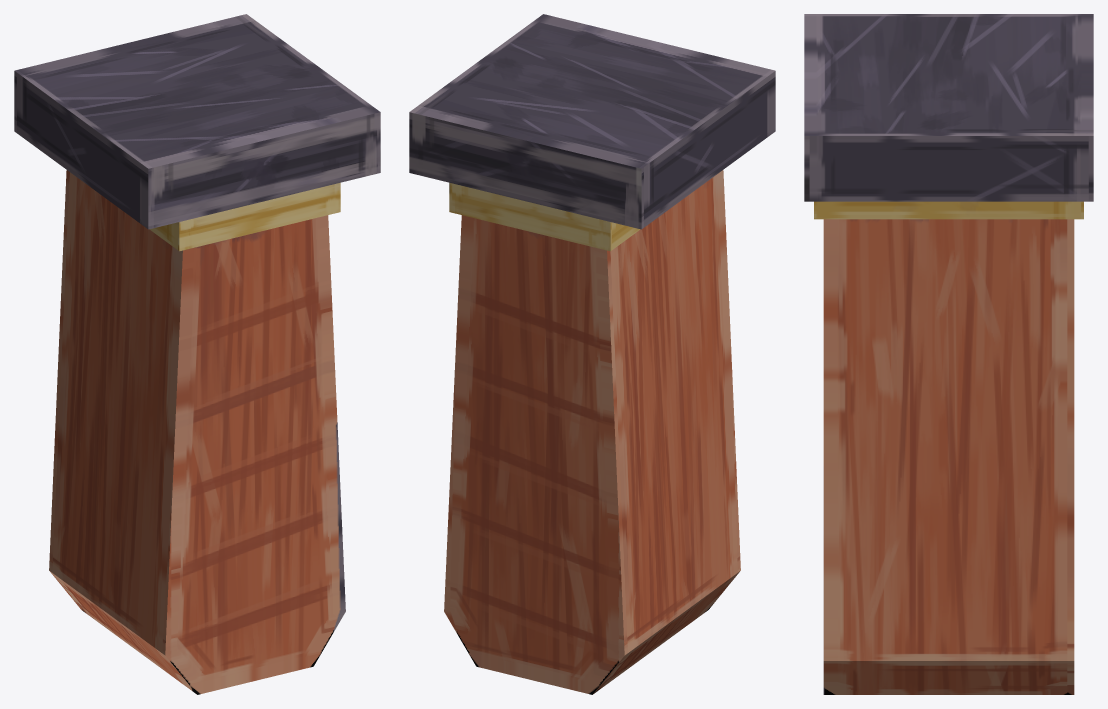
File: att_foregrip_low.fbx
3 views of the same model, side by side, from view 1: azimuth 30°, elevation 25°; view 2: azimuth 150°, elevation 25°; view 3: azimuth 270°, elevation 25° (orthographic). The views are drawn at different scales.
Visible parts, largest first — view 1: att_foregrip; view 2: att_foregrip; view 3: att_foregrip.
Boxes of the visible parts, box(x1,y1,x2,y2) form: att_foregrip: box(14, 14, 380, 694); att_foregrip: box(409, 14, 775, 694); att_foregrip: box(804, 14, 1093, 694).
Bounding box in the file's own units: 0.135 × 0.3038 × 0.135.
1 material, 1 textured.
